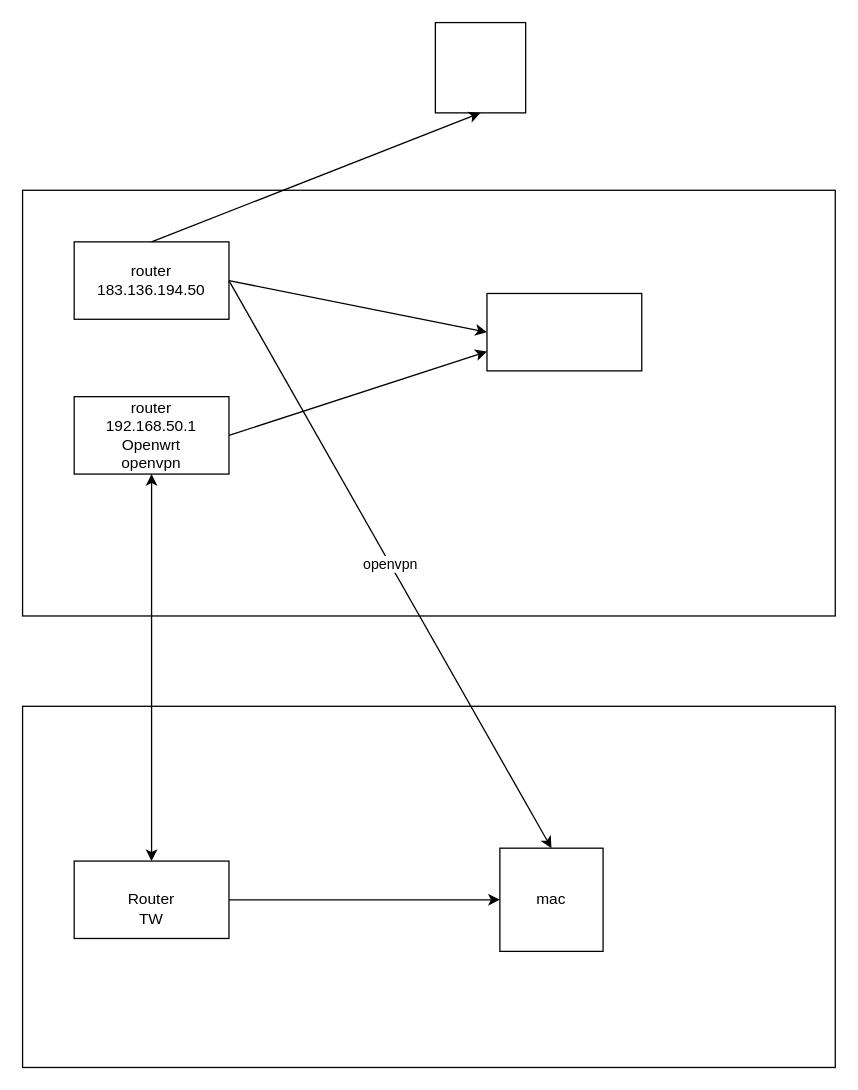
This 858x1090 diagram has some shape labels left out. Each missing label, with the centre of its shape:
"192.168.50.220 192.168.8.3 BYOAI" goes at point (564, 331).
"client 192.168.8.*" goes at point (480, 67).
